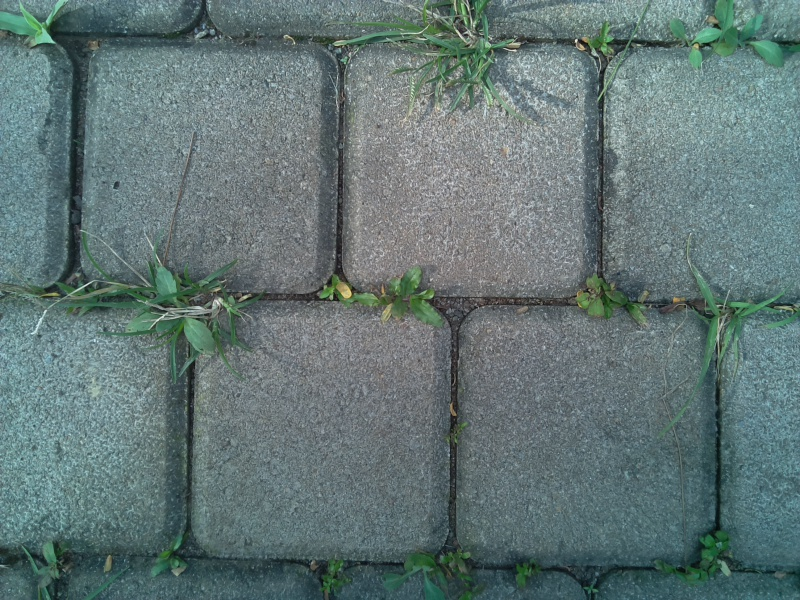Weed: (101, 234, 257, 384), (378, 6, 521, 110), (687, 261, 779, 402), (660, 3, 785, 80), (362, 266, 457, 334), (569, 264, 653, 332), (658, 524, 733, 585), (374, 546, 446, 598), (3, 3, 65, 55), (21, 543, 72, 599), (312, 266, 360, 316), (577, 17, 619, 66), (437, 538, 479, 585), (153, 531, 195, 577), (309, 554, 355, 595), (506, 552, 545, 598), (442, 409, 472, 448), (577, 575, 607, 599)
